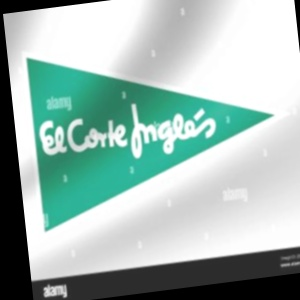corte_ingles: (197, 36, 234, 138)
